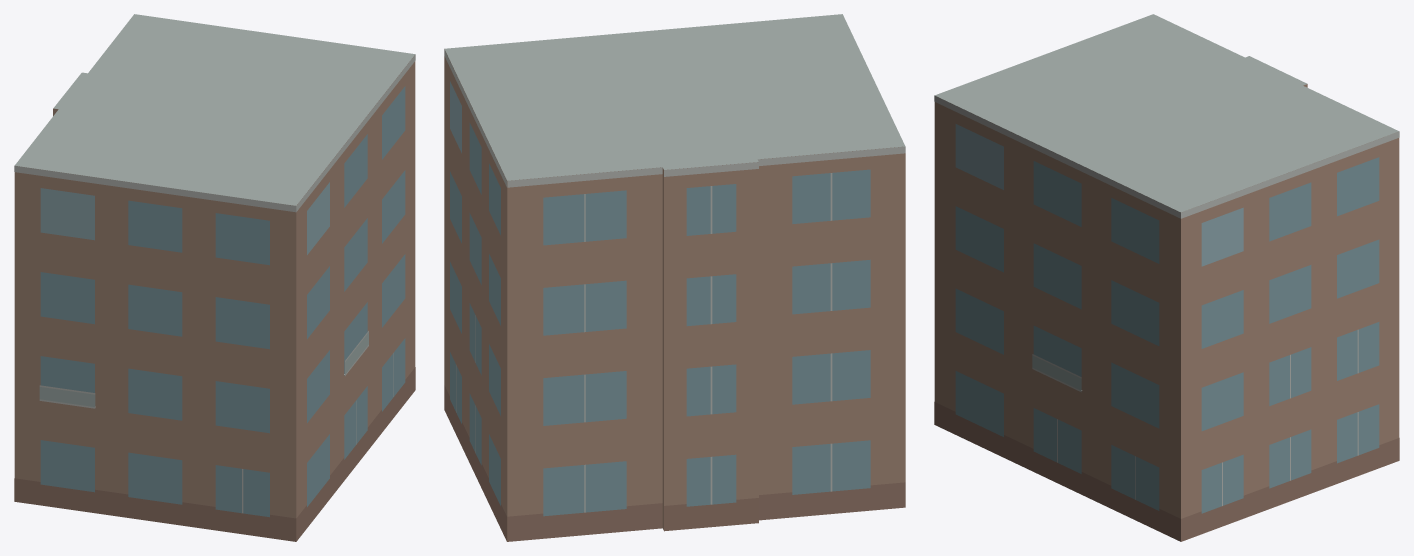
Rendered from survey-upis-32624889.glb.
3 renders of one model, left to right at view 1: azimuth 30°, elevation 25°; view 2: azimuth 150°, elevation 25°; view 3: azimuth 270°, elevation 25°, orthographic. The views are drawn at different scales.
Parts seen in each view (by area): view 1: survey-upis-32624889.tmp; view 2: survey-upis-32624889.tmp; view 3: survey-upis-32624889.tmp.
Boxes of the visible parts, bbox=[...] form: survey-upis-32624889.tmp: bbox=[14, 14, 415, 541]; survey-upis-32624889.tmp: bbox=[444, 14, 905, 541]; survey-upis-32624889.tmp: bbox=[934, 14, 1399, 541].
Bounding box in the file's own units: 16.5 × 12.76 × 16.33.
